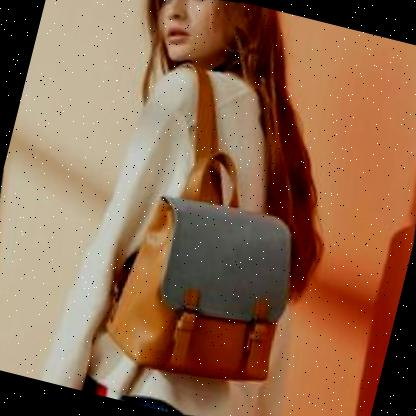bag: (89, 167, 317, 404)
person: (34, 0, 375, 416)
